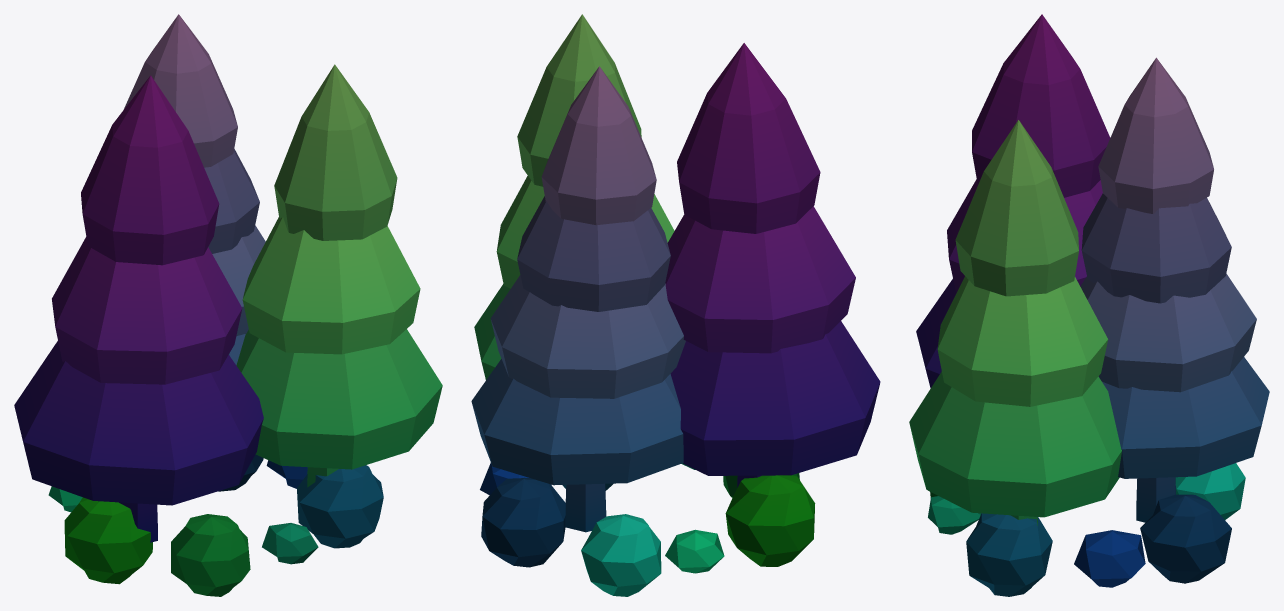
Rendered from spruce_04.glb.
3 views of the same model, side by side, from view 1: azimuth 30°, elevation 25°; view 2: azimuth 150°, elevation 25°; view 3: azimuth 270°, elevation 25° (orthographic).
Parts seen in each view (by area): view 1: spruce_04; view 2: spruce_04; view 3: spruce_04.
Boxes of the visible parts, x1=… form: spruce_04: x1=14, y1=14, x2=442, y2=596; spruce_04: x1=471, y1=14, x2=880, y2=596; spruce_04: x1=909, y1=14, x2=1269, y2=596.
Size of the model in its own units: 0.94 by 1.15 by 0.761.
